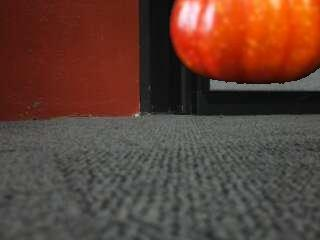Pumpkin: (167, 0, 320, 86)
